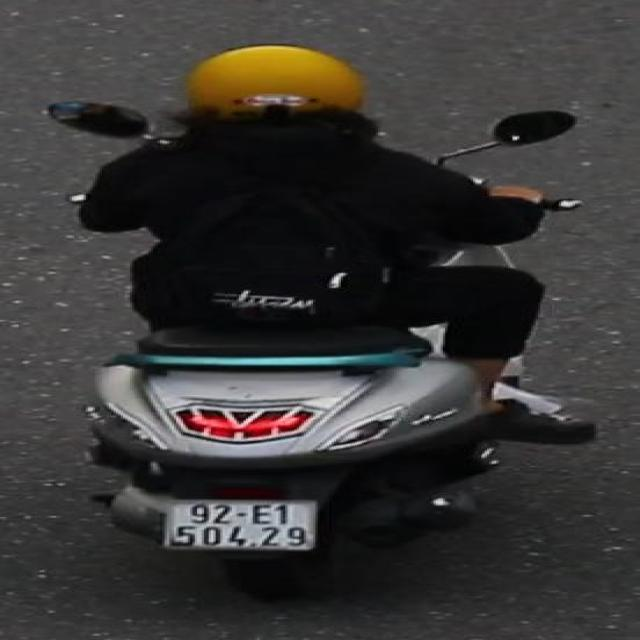LP: (155, 495, 325, 559)
helmet: (167, 41, 387, 148)
